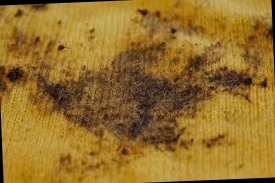earth: (61, 77, 202, 122), (117, 122, 181, 145), (118, 50, 151, 79), (212, 69, 252, 90), (37, 78, 59, 110), (184, 57, 208, 73), (7, 67, 26, 84)
